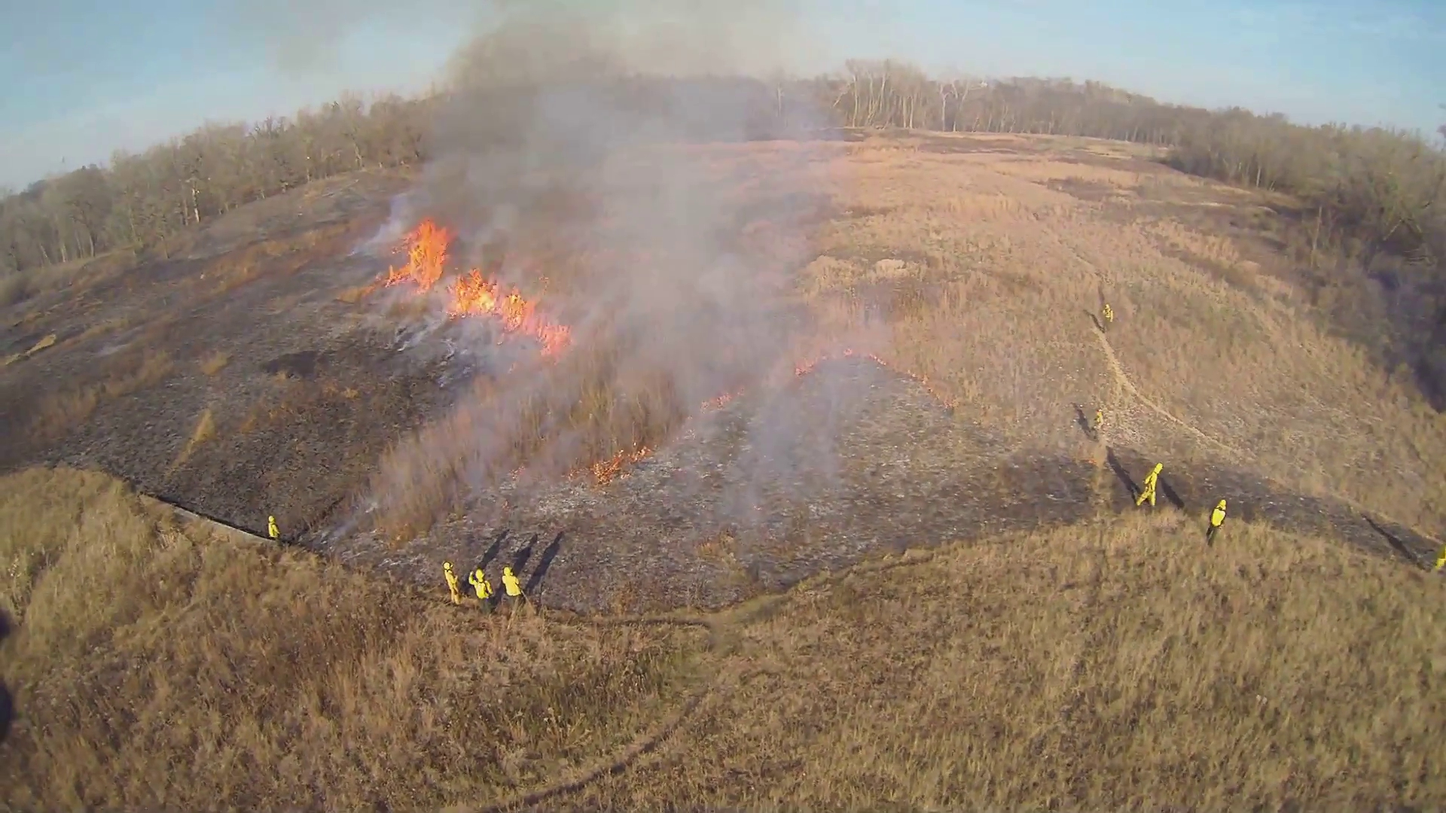forest_fire: (449, 269, 569, 355), (383, 220, 452, 293)
